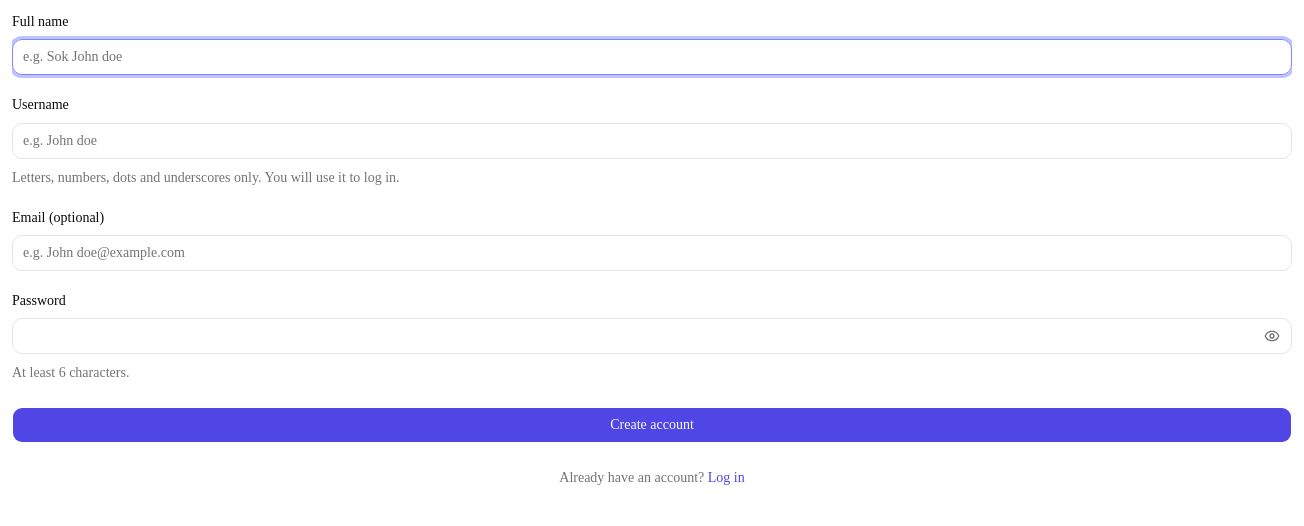
Test case: RegisterForm › shows a taken username under the username field
The image size is (1304, 526).
Type "Sok John doe" into the field labelled "Full name" at (652, 57), box [12,39,1292,75]
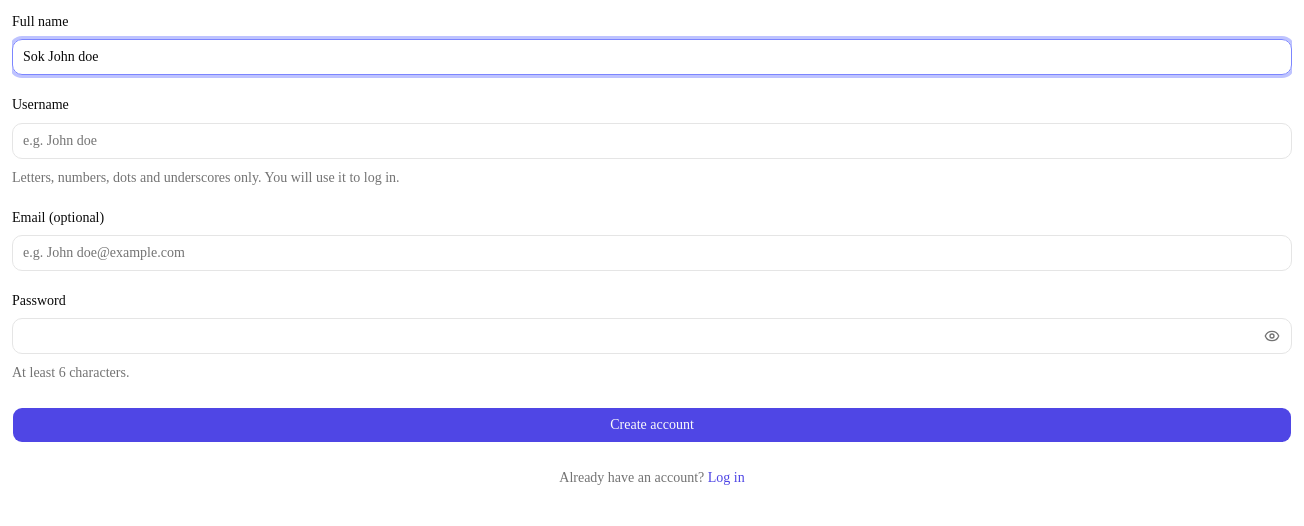
Type "demo" into the field labelled "Username" at (652, 140), box [12,122,1292,158]
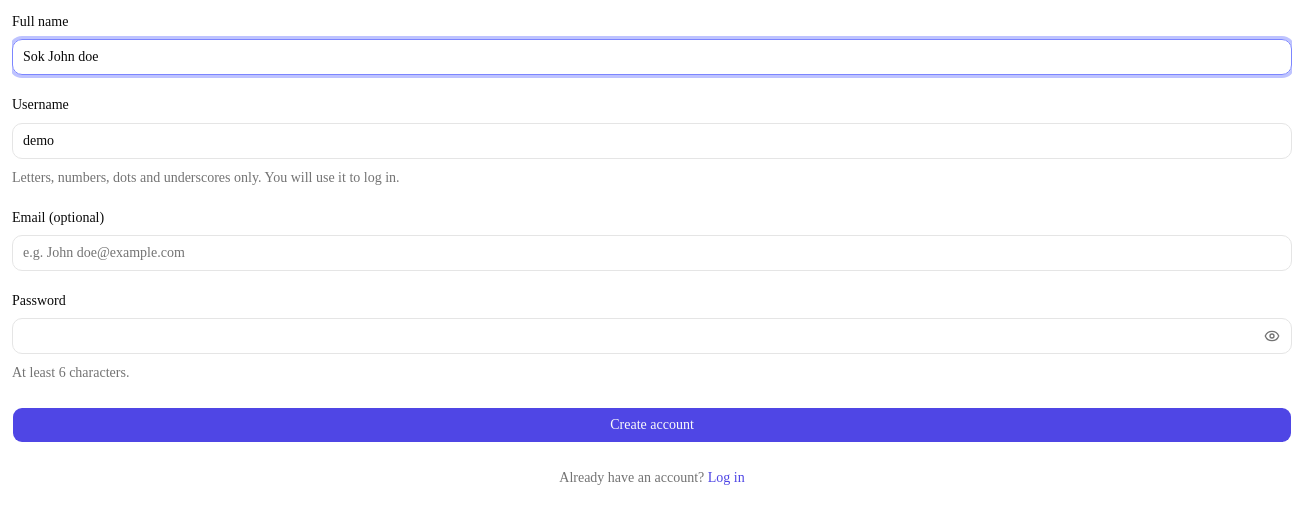
Type "password123" into the password field labelled "Password" at (634, 336), box [13,319,1256,353]
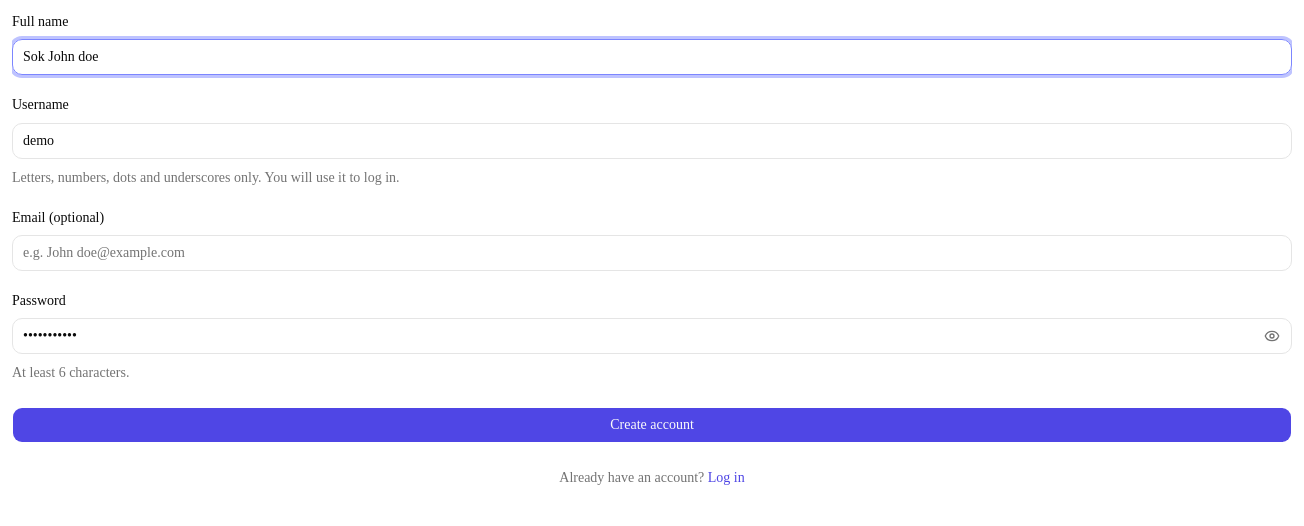
Click the button "Create account" at (652, 425), box [12,407,1292,443]
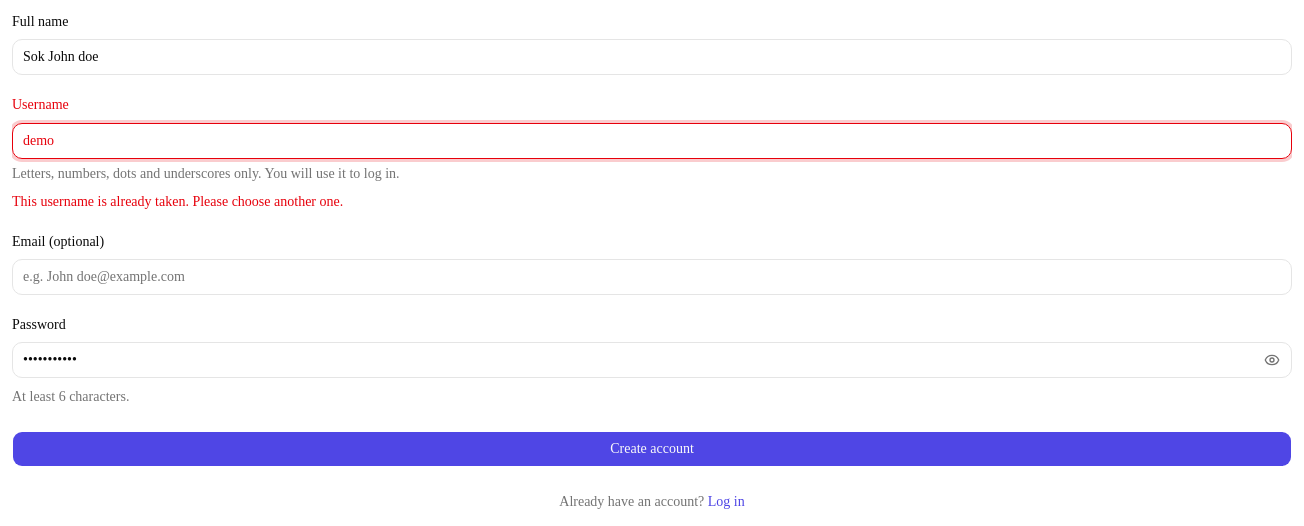
Now the text "This username is already taken. Please choose another one." is shown, box [12,194,343,208]
